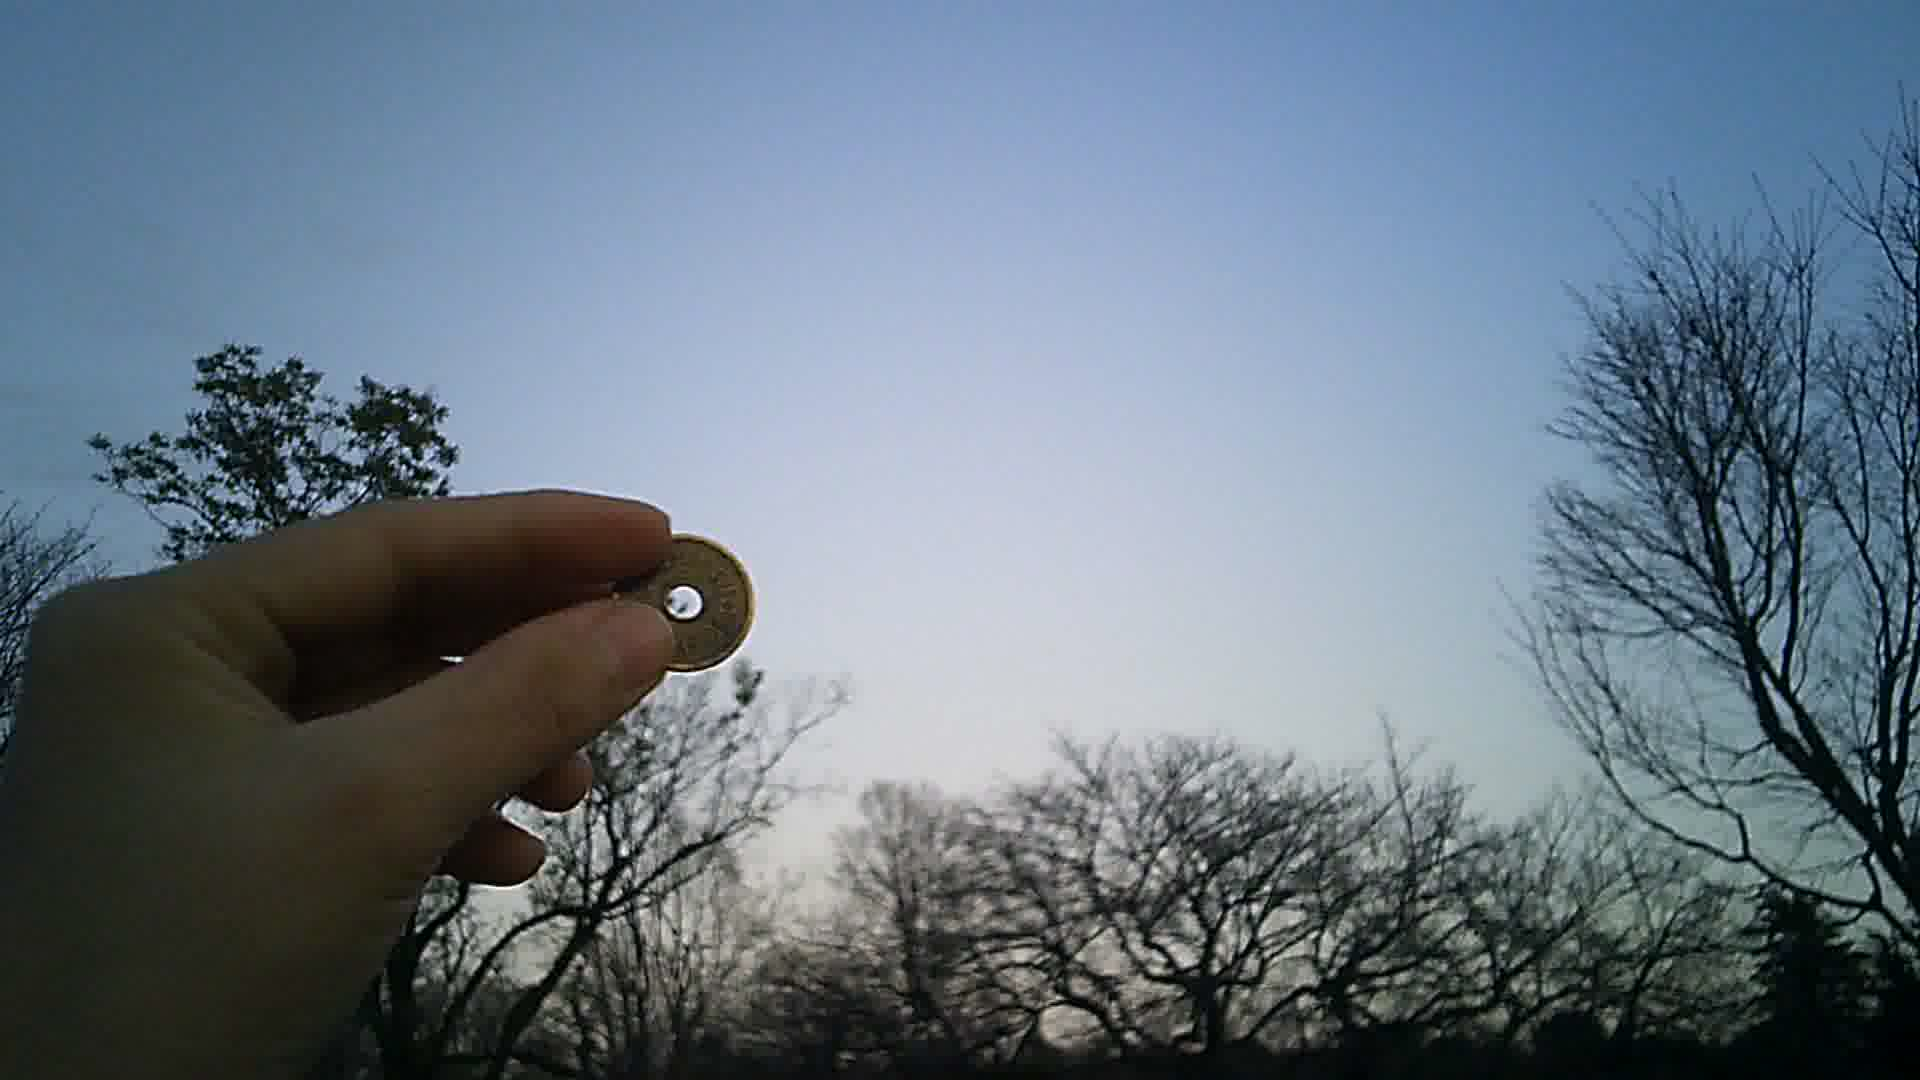5 Yen: (597, 520, 760, 679)
